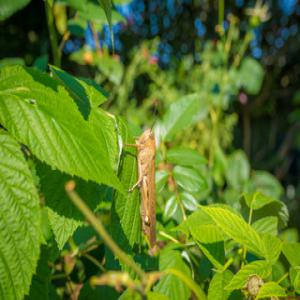locust: (127, 93, 178, 244)
